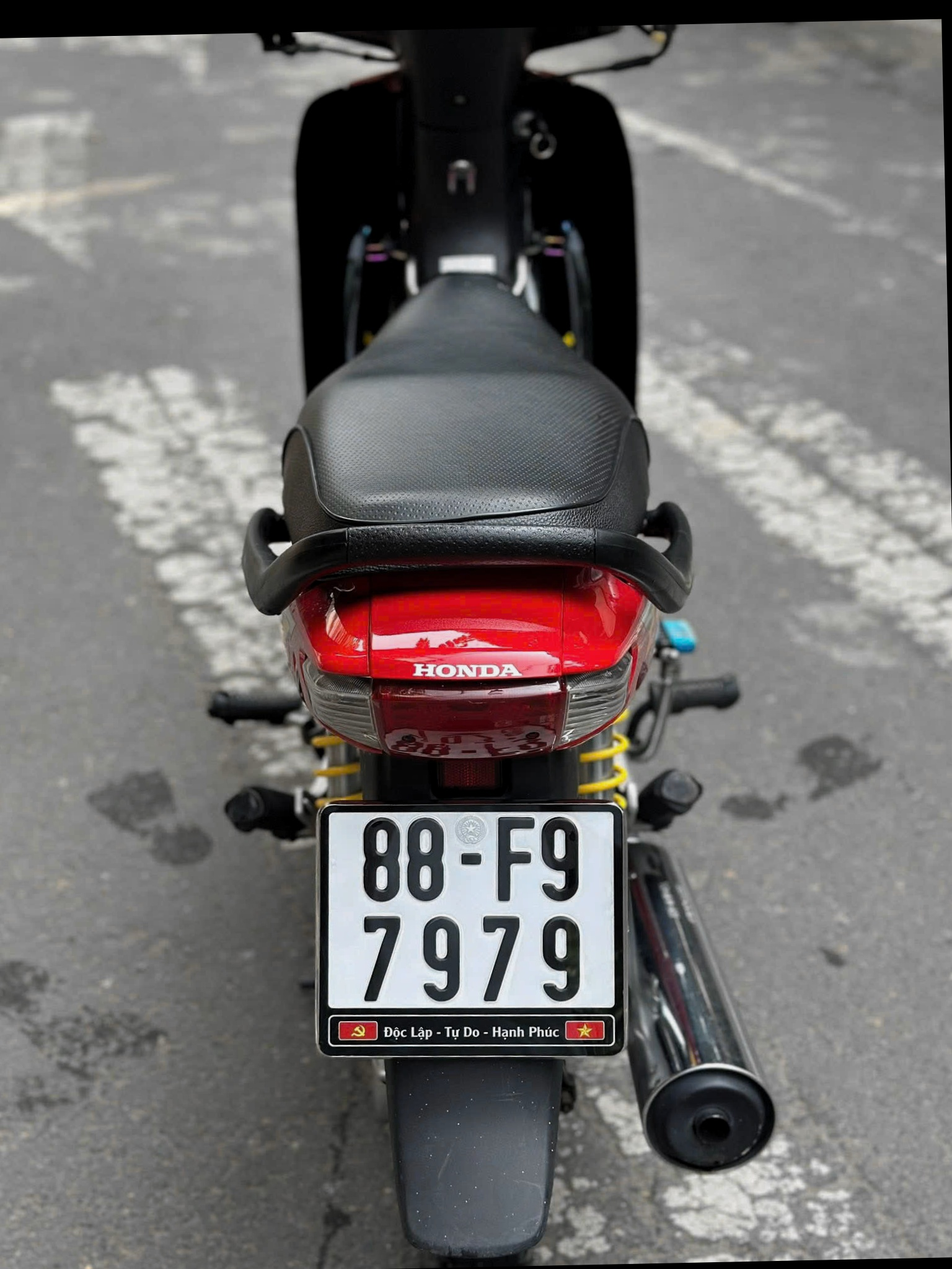Bien-so: (322, 804, 625, 1014)
